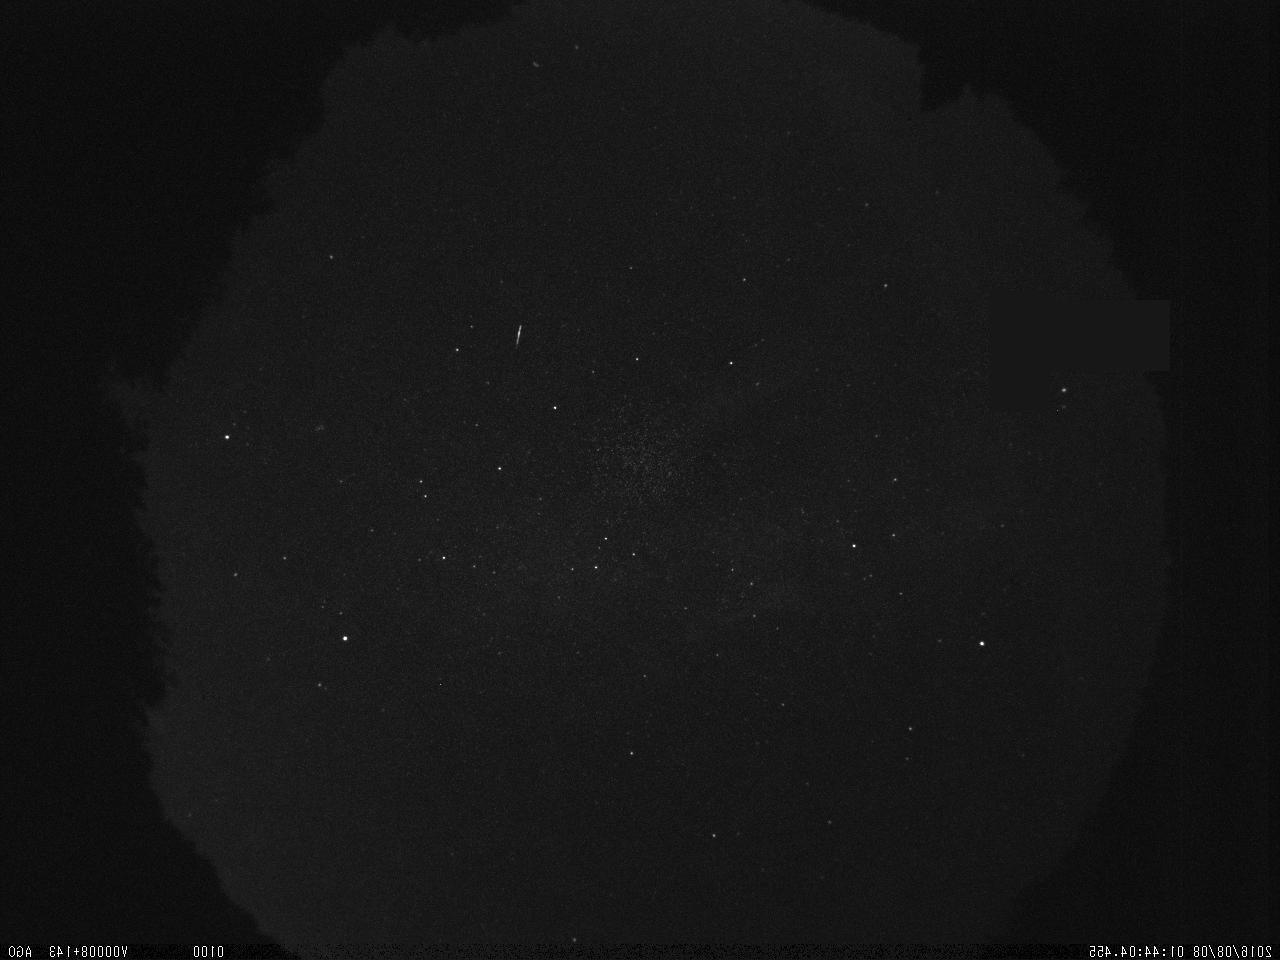meteor: (488, 311, 535, 372)
